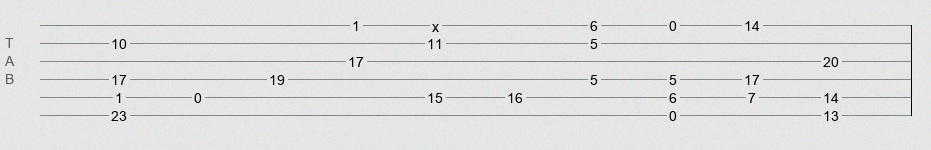0: (194, 90, 202, 100), (669, 18, 677, 28), (669, 108, 677, 118)
1: (115, 90, 123, 100), (352, 18, 360, 28)
10: (111, 36, 127, 46)
11: (427, 36, 443, 46)
13: (823, 108, 839, 118)
14: (744, 18, 760, 28), (823, 90, 839, 100)
15: (427, 90, 443, 100)
16: (507, 90, 523, 100)
17: (111, 72, 127, 82), (348, 54, 364, 64), (744, 72, 760, 82)
19: (269, 72, 285, 82)
20: (823, 54, 839, 64)
23: (111, 108, 127, 118)
5: (590, 72, 598, 82), (590, 36, 598, 46), (669, 72, 677, 82)
6: (590, 18, 598, 28), (669, 90, 677, 100)
7: (748, 90, 756, 100)
x: (432, 19, 439, 27)
